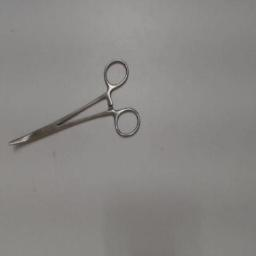Crile Artery Forceps: (4, 56, 144, 152)
